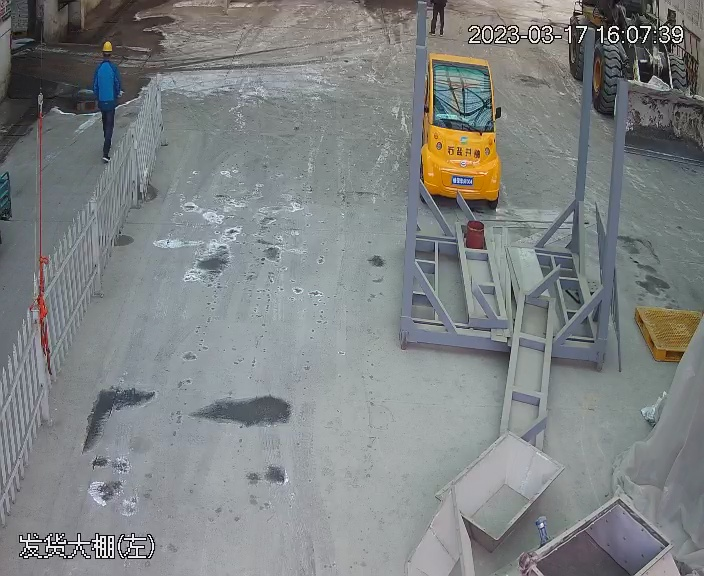head: (93, 40, 121, 78)
helmet: (101, 40, 114, 52)
people: (90, 41, 123, 160)
